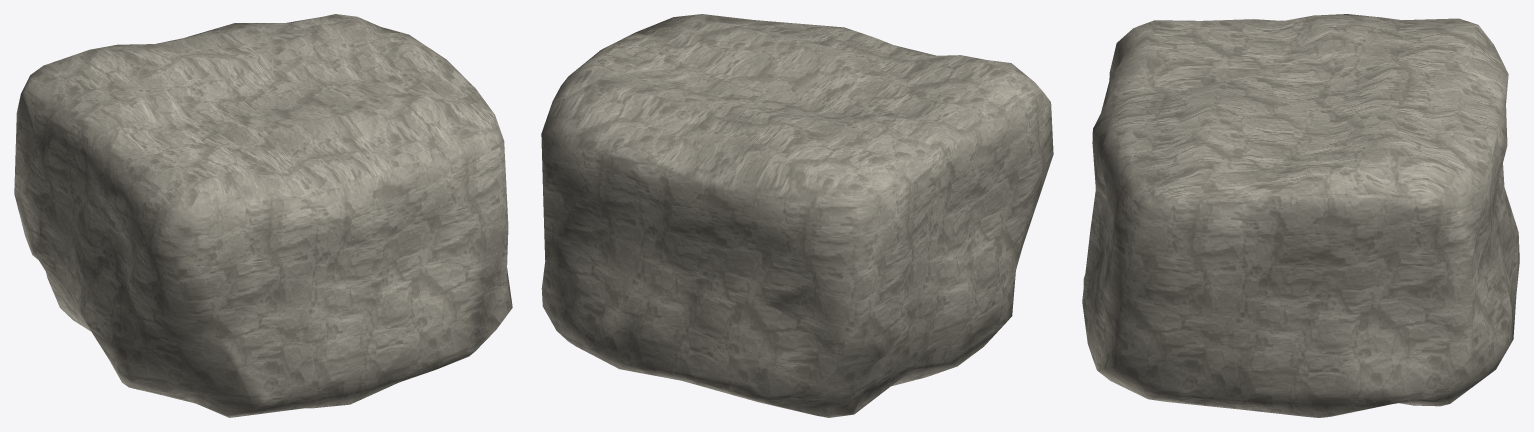
File: LimestoneRock01.fbx
3 views of the same model, side by side, from view 1: azimuth 30°, elevation 25°; view 2: azimuth 150°, elevation 25°; view 3: azimuth 270°, elevation 25° (orthographic). The views are drawn at different scales.
Visible parts, largest first — view 1: LimestoneRock01_LOD0; view 2: LimestoneRock01_LOD0; view 3: LimestoneRock01_LOD0.
Boxes of the visible parts, x1,y1,x2,y2 form: LimestoneRock01_LOD0: [14, 14, 512, 417]; LimestoneRock01_LOD0: [541, 14, 1053, 417]; LimestoneRock01_LOD0: [1082, 14, 1519, 417].
Size of what is drawn, in the model's own units: 2 by 1.32 by 1.97.
1 material, 1 textured.
